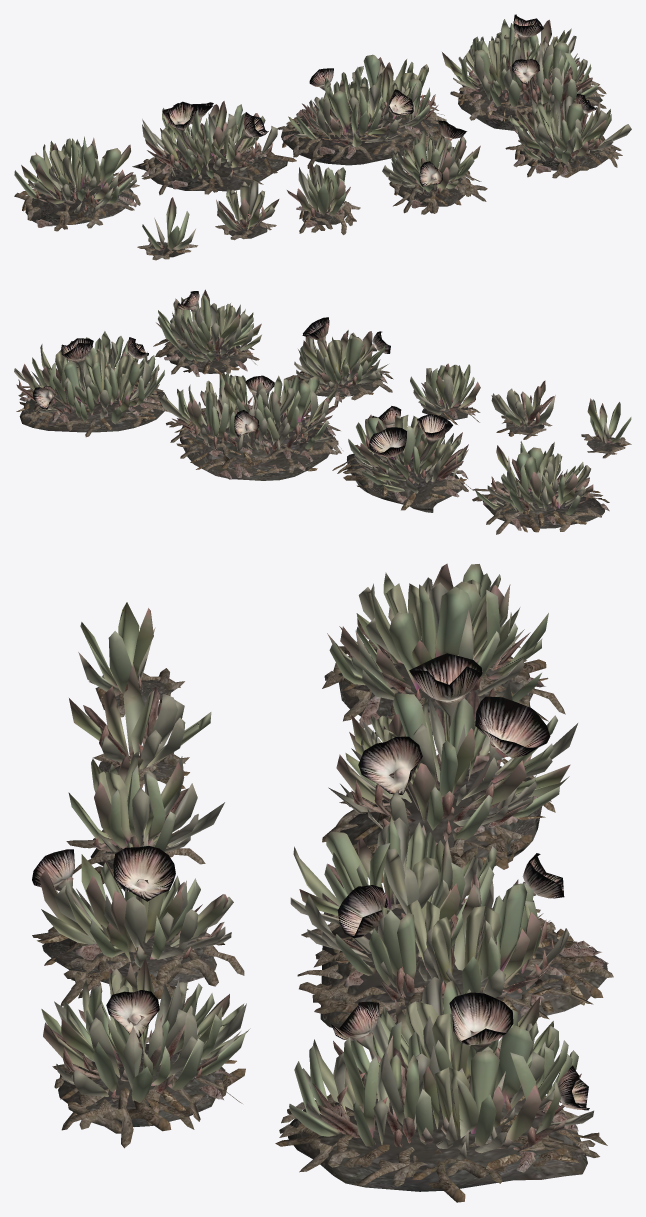
Rendered from cheiridopsis_succulent.glb.
3 views of the same model, one above another, from view 1: azimuth 30°, elevation 25°; view 2: azimuth 150°, elevation 25°; view 3: azimuth 270°, elevation 25° (orthographic). The views are drawn at different scales.
Visible parts, largest first — view 1: cheiridopsis_succulent_a_LOD0, cheiridopsis_succulent_d_LOD0; view 2: cheiridopsis_succulent_a_LOD0, cheiridopsis_succulent_d_LOD0; view 3: cheiridopsis_succulent_a_LOD0, cheiridopsis_succulent_d_LOD0.
Boxes of the visible parts, <box> form: cheiridopsis_succulent_a_LOD0: <box>14,19,631,260</box>; cheiridopsis_succulent_d_LOD0: <box>162,14,596,186</box>; cheiridopsis_succulent_a_LOD0: <box>14,289,631,534</box>; cheiridopsis_succulent_d_LOD0: <box>33,291,452,457</box>; cheiridopsis_succulent_a_LOD0: <box>32,563,613,1202</box>; cheiridopsis_succulent_d_LOD0: <box>32,653,589,1110</box>.
Size of the model in its own units: 2.16 by 0.2708 by 0.9586.
Materials: 2 (2 with a texture image).
